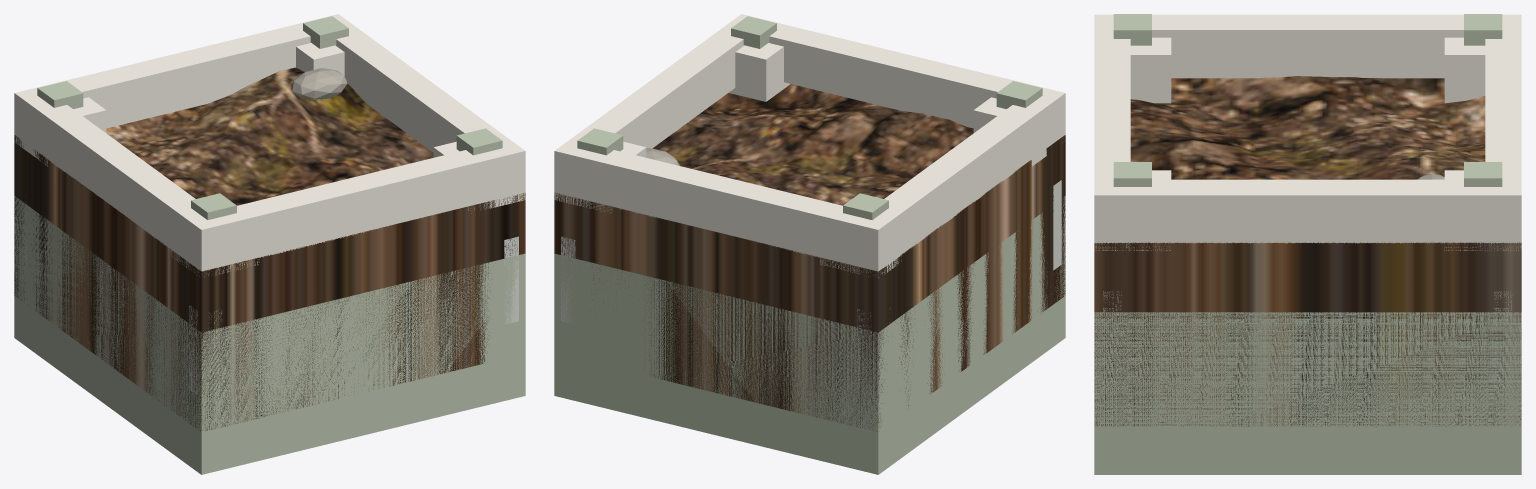
Rendered from s03-untreated-corner-se.glb.
3 renders of one model, left to right at view 1: azimuth 30°, elevation 25°; view 2: azimuth 150°, elevation 25°; view 3: azimuth 270°, elevation 25°, orthographic. The views are drawn at different scales.
Visible parts, largest first — view 1: S03_Physical_Untreated_Soil_Top_RealRelief, S03_Frame_Sage_Solid_Bottom, S03_Cream_Rim_N, S03_Cream_Rim_S, S03_Cream_Rim_W, S03_Cream_Rim_E, S03_Cream_Protective_Corner_1_1, S03_Cream_Protective_Corner_0_0, S03_Embedded_Stone_084, S03_Cream_Protective_Corner_1_0, S03_Cream_Protective_Corner_0_1, S03_Sage_Corner_Inset_1_0 (+5 smaller); view 2: S03_Physical_Untreated_Soil_Top_RealRelief, S03_Frame_Sage_Solid_Bottom, S03_Cream_Rim_S, S03_Cream_Rim_N, S03_Cream_Rim_W, S03_Cream_Rim_E, S03_Cream_Protective_Corner_1_1, S03_Cream_Protective_Corner_1_0, S03_Cream_Protective_Corner_0_1, S03_Cream_Protective_Corner_0_0, S03_Sage_Corner_Inset_1_1, S03_Sage_Corner_Inset_0_1 (+4 smaller); view 3: S03_Physical_Untreated_Soil_Top_RealRelief, S03_Frame_Sage_Solid_Bottom, S03_Cream_Rim_E, S03_Cream_Rim_W, S03_Cream_Rim_N, S03_Cream_Rim_S, S03_Cream_Protective_Corner_0_1, S03_Cream_Protective_Corner_0_0, S03_Sage_Corner_Inset_0_0, S03_Sage_Corner_Inset_0_1, S03_Sage_Corner_Inset_1_0, S03_Sage_Corner_Inset_1_1 (+2 smaller).
Boxes of the visible parts, x1,y1,x2,y2 form: S03_Physical_Untreated_Soil_Top_RealRelief: [14, 67, 525, 430]; S03_Frame_Sage_Solid_Bottom: [14, 196, 525, 474]; S03_Cream_Rim_N: [185, 139, 525, 271]; S03_Cream_Rim_S: [14, 14, 353, 139]; S03_Cream_Rim_W: [14, 86, 228, 271]; S03_Cream_Rim_E: [334, 14, 525, 199]; S03_Cream_Protective_Corner_1_1: [433, 141, 525, 213]; S03_Cream_Protective_Corner_0_0: [14, 97, 106, 166]; S03_Embedded_Stone_084: [291, 68, 347, 99]; S03_Cream_Protective_Corner_1_0: [296, 43, 344, 75]; S03_Cream_Protective_Corner_0_1: [168, 213, 259, 275]; S03_Sage_Corner_Inset_1_0: [303, 16, 348, 48]; S03_Physical_Untreated_Soil_Top_RealRelief: [554, 84, 1065, 431]; S03_Frame_Sage_Solid_Bottom: [554, 196, 1065, 474]; S03_Cream_Rim_S: [554, 139, 894, 271]; S03_Cream_Rim_N: [727, 14, 1065, 145]; S03_Cream_Rim_W: [851, 86, 1065, 270]; S03_Cream_Rim_E: [554, 14, 755, 198]; S03_Cream_Protective_Corner_1_1: [728, 43, 790, 101]; S03_Cream_Protective_Corner_1_0: [554, 141, 646, 213]; S03_Cream_Protective_Corner_0_1: [973, 97, 1065, 166]; S03_Cream_Protective_Corner_0_0: [820, 222, 901, 277]; S03_Sage_Corner_Inset_1_1: [731, 16, 776, 48]; S03_Sage_Corner_Inset_0_1: [996, 81, 1042, 108]; S03_Physical_Untreated_Soil_Top_RealRelief: [1094, 76, 1521, 426]; S03_Frame_Sage_Solid_Bottom: [1094, 312, 1521, 474]; S03_Cream_Rim_E: [1094, 179, 1521, 243]; S03_Cream_Rim_W: [1094, 14, 1521, 78]; S03_Cream_Rim_N: [1094, 14, 1130, 243]; S03_Cream_Rim_S: [1485, 14, 1521, 243]; S03_Cream_Protective_Corner_0_1: [1130, 37, 1171, 103]; S03_Cream_Protective_Corner_0_0: [1444, 37, 1485, 103]; S03_Sage_Corner_Inset_0_0: [1464, 14, 1502, 45]; S03_Sage_Corner_Inset_0_1: [1113, 14, 1151, 45]; S03_Sage_Corner_Inset_1_0: [1464, 162, 1502, 186]; S03_Sage_Corner_Inset_1_1: [1113, 162, 1151, 186].
Bounding box in the file's own units: 0.2 × 0.149 × 0.2.
6 materials, 1 textured.
